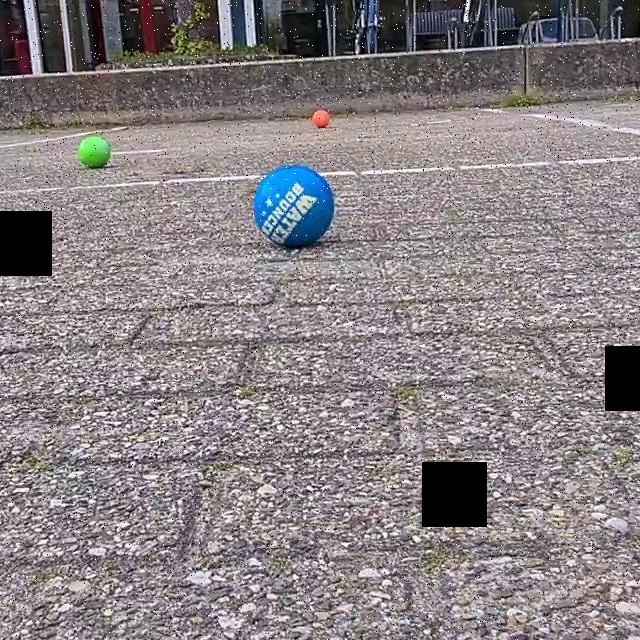ball: (75, 132, 112, 175), (308, 104, 330, 131)
